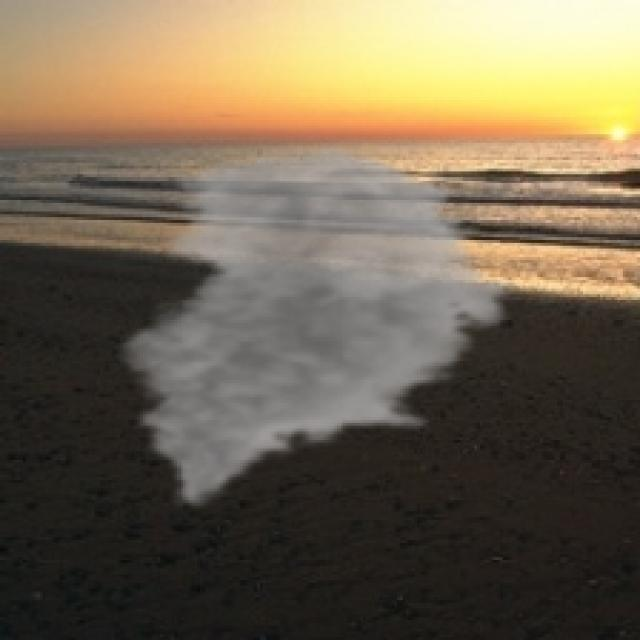smoke: (108, 143, 523, 511)
